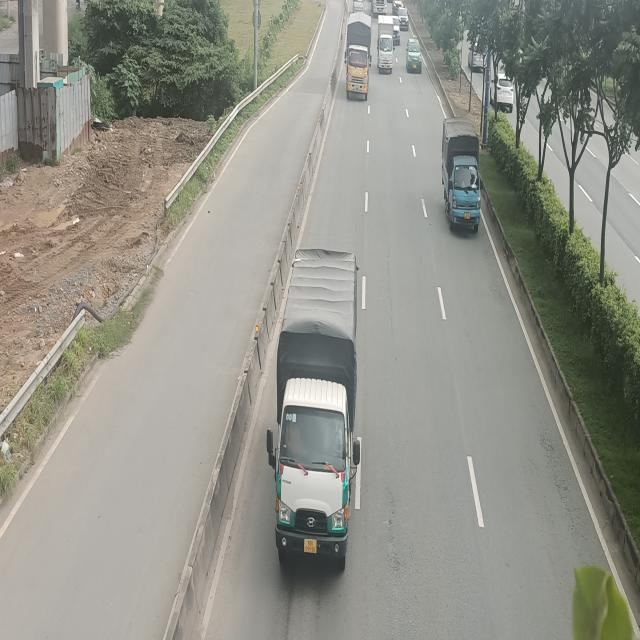car: (406, 38, 424, 74)
truck: (266, 251, 362, 571), (444, 118, 486, 232), (345, 15, 371, 104), (378, 17, 396, 75)
